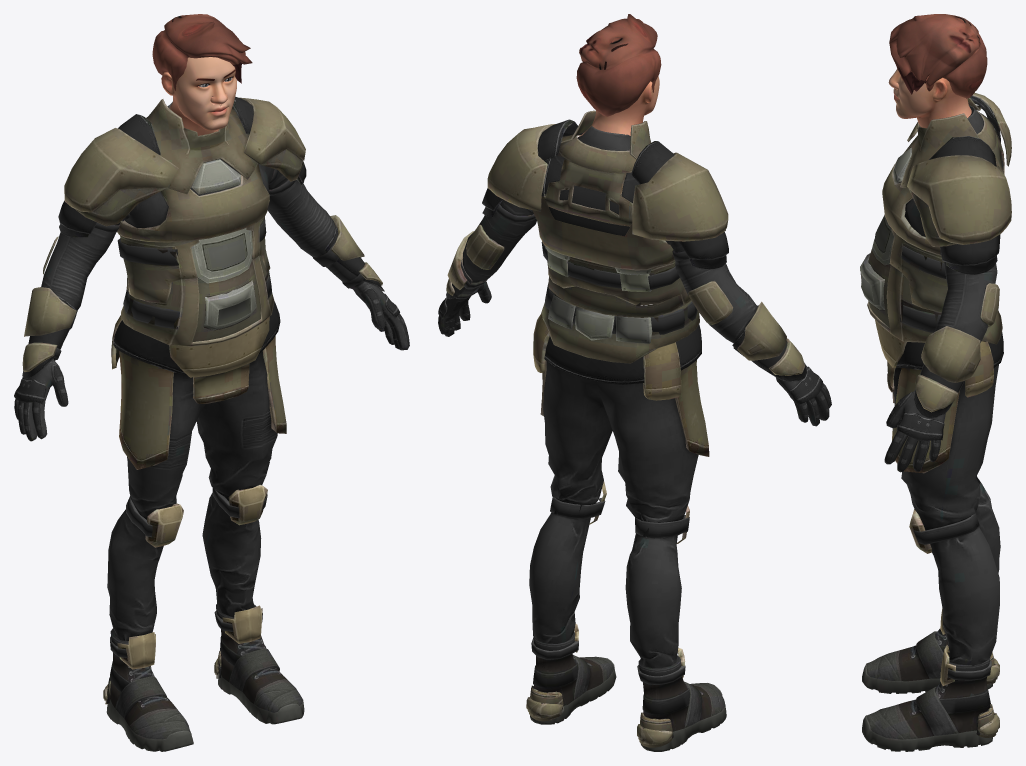
File: Fat_Character_Costume_3.glb
The picture shows the model from 3 angles, left to right: view 1: azimuth 30°, elevation 25°; view 2: azimuth 150°, elevation 25°; view 3: azimuth 270°, elevation 25°; orthographic projection.
Visible parts, largest first — view 1: Wolf3D_Outfit_Top.001, Wolf3D_Outfit_Top.002, Wolf3D_Outfit_Top.004, Wolf3D_Outfit_Top.003, Head.005, Head.008; view 2: Wolf3D_Outfit_Top.001, Wolf3D_Outfit_Top.002, Head.008, Wolf3D_Outfit_Top.004, Wolf3D_Outfit_Top.003, Head.005; view 3: Wolf3D_Outfit_Top.001, Wolf3D_Outfit_Top.002, Wolf3D_Outfit_Top.003, Head.008, Wolf3D_Outfit_Top.004, Head.005.
Part boxes in pixels (x1,y1,x2,y2): Wolf3D_Outfit_Top.001: (14,96,409,704); Wolf3D_Outfit_Top.002: (107,301,286,669); Wolf3D_Outfit_Top.004: (106,628,193,751); Wolf3D_Outfit_Top.003: (216,604,304,724); Head.005: (161,57,236,135); Head.008: (152,14,252,90); Wolf3D_Outfit_Top.001: (438,110,831,747); Wolf3D_Outfit_Top.002: (529,312,709,684); Head.008: (576,14,661,116); Wolf3D_Outfit_Top.004: (638,655,726,751); Wolf3D_Outfit_Top.003: (530,632,616,724); Head.005: (577,76,659,137); Wolf3D_Outfit_Top.001: (860,93,1011,737); Wolf3D_Outfit_Top.002: (875,320,1003,696); Wolf3D_Outfit_Top.003: (862,652,992,751); Head.008: (889,14,987,98); Wolf3D_Outfit_Top.004: (862,628,992,693); Head.005: (888,68,971,128).
Size of the model in its own units: 1.07 by 1.87 by 0.3688.
Materials: 6 (6 with a texture image).
